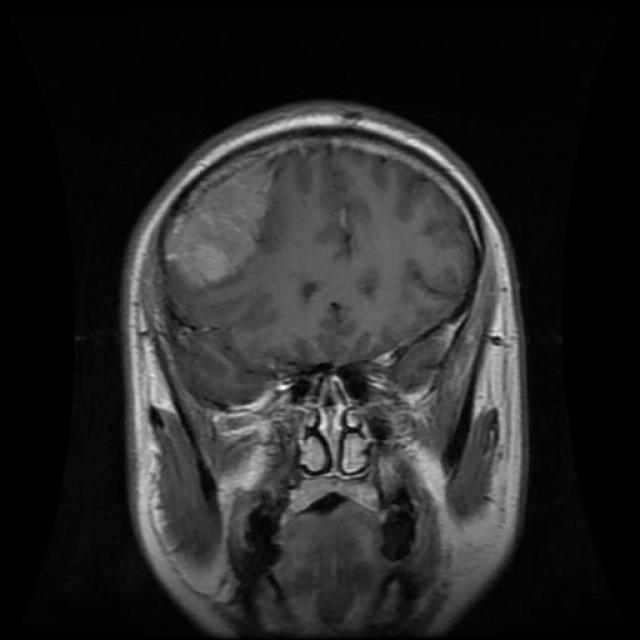meningioma: (169, 169, 256, 286)
